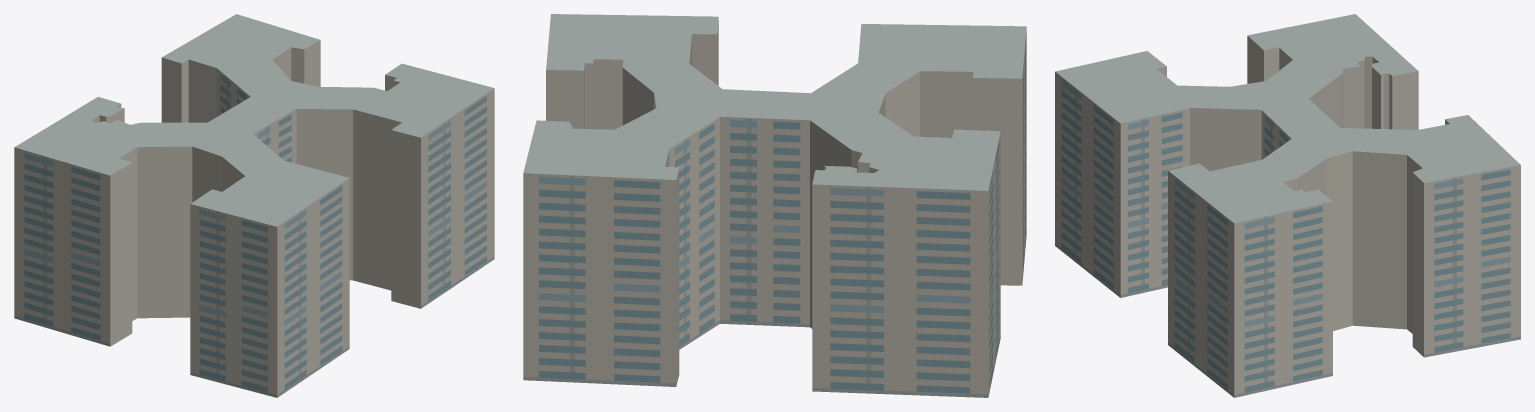
File: residential-e9b0da2c-c063-4c7f-8b73-d82a1fb99b7e.glb
3 renders of one model, left to right at view 1: azimuth 30°, elevation 25°; view 2: azimuth 150°, elevation 25°; view 3: azimuth 270°, elevation 25°, orthographic. The views are drawn at different scales.
Visible parts, largest first — view 1: residential-e9b0da2c-c063-4c7f-8b73-d82a1fb99b7e.tmp; view 2: residential-e9b0da2c-c063-4c7f-8b73-d82a1fb99b7e.tmp; view 3: residential-e9b0da2c-c063-4c7f-8b73-d82a1fb99b7e.tmp.
Boxes of the visible parts, x1,y1,x2,y2 form: residential-e9b0da2c-c063-4c7f-8b73-d82a1fb99b7e.tmp: (14, 14, 494, 397); residential-e9b0da2c-c063-4c7f-8b73-d82a1fb99b7e.tmp: (523, 14, 1026, 397); residential-e9b0da2c-c063-4c7f-8b73-d82a1fb99b7e.tmp: (1055, 14, 1520, 397).
Bounding box in the file's own units: 131 × 51 × 123.
